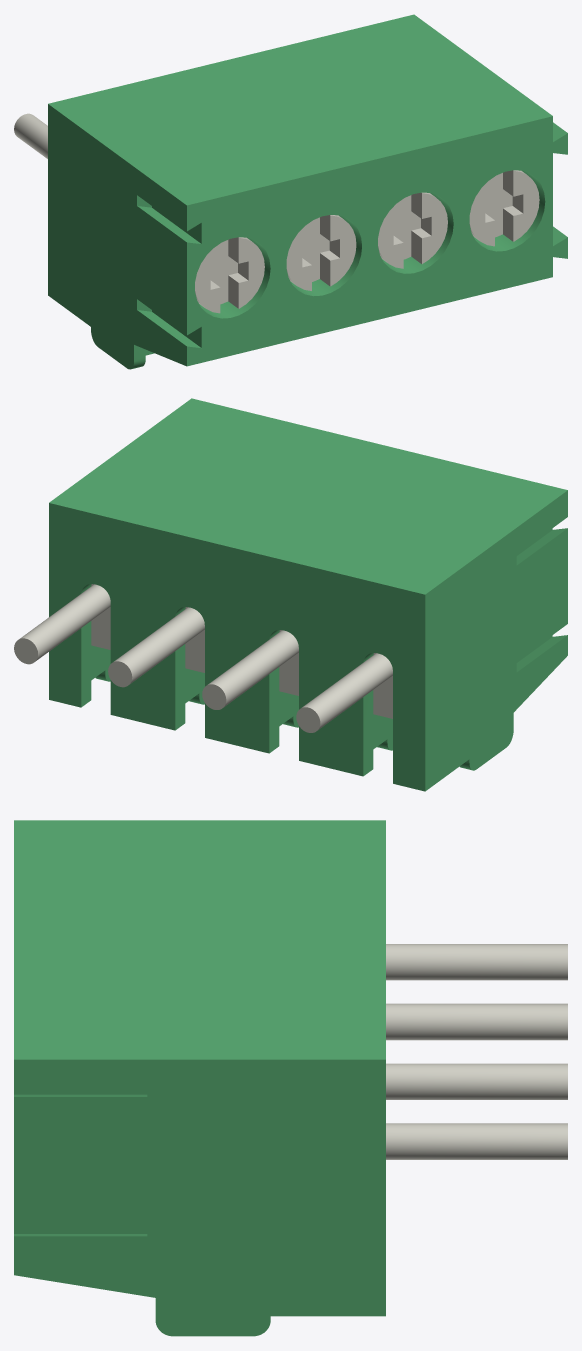
File: terminal-4-p3.5.glb
The picture shows the model from 3 angles, top to bottom: view 1: azimuth 30°, elevation 25°; view 2: azimuth 150°, elevation 25°; view 3: azimuth 270°, elevation 25°; orthographic projection. The views are drawn at different scales.
Visible parts, largest first — view 1: PLASTIC-GREEN-01 (×3), PIN-01 (×5); view 2: PLASTIC-GREEN-01, PIN-01 (×6); view 3: PLASTIC-GREEN-01, PIN-01 (×4).
Part boxes in pixels (bbox=[...]): PLASTIC-GREEN-01 (×3): bbox=[48, 14, 567, 369]; PIN-01 (×5): bbox=[14, 113, 539, 313]; PLASTIC-GREEN-01: bbox=[49, 398, 567, 791]; PIN-01 (×6): bbox=[14, 584, 392, 732]; PLASTIC-GREEN-01: bbox=[14, 820, 385, 1336]; PIN-01 (×4): bbox=[386, 944, 567, 1159].
Size of the model in its own units: 14.57 by 7.55 by 13.7.
